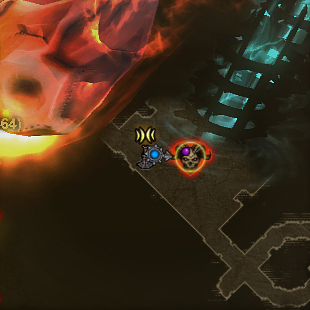ChannPylon: (134, 125, 158, 169)
Guardian: (170, 138, 213, 176)
